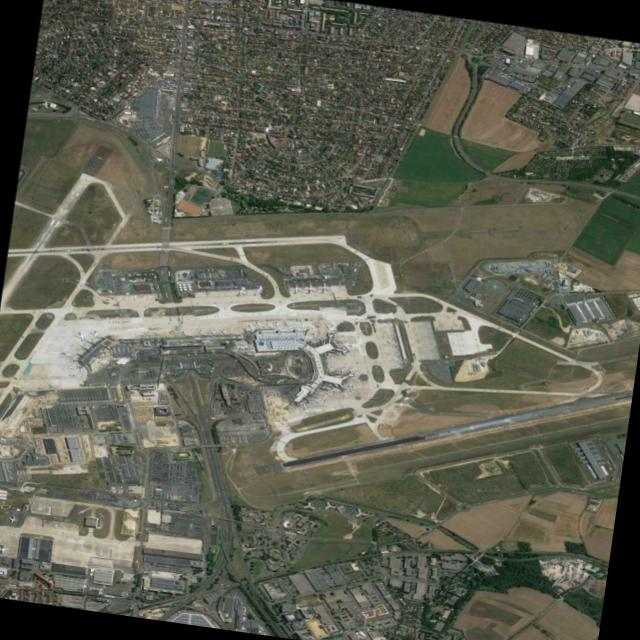plane: (323, 321, 337, 335), (250, 285, 264, 298), (303, 283, 316, 296), (74, 331, 86, 341), (289, 284, 300, 294), (318, 283, 329, 293), (235, 287, 245, 297), (90, 330, 99, 337), (246, 324, 254, 331), (253, 320, 261, 327), (210, 328, 218, 335), (197, 327, 204, 334), (221, 327, 227, 333)
